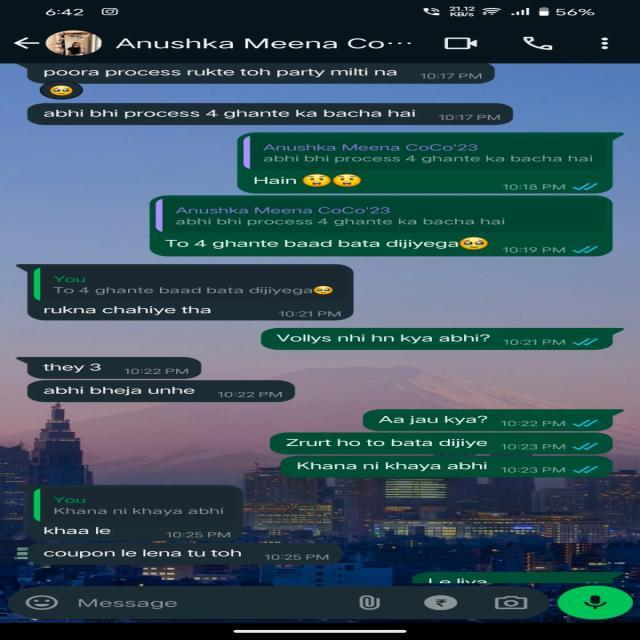scam: (29, 102, 512, 125), (24, 64, 497, 86), (33, 543, 340, 564), (23, 380, 294, 402), (27, 304, 355, 320), (17, 356, 202, 380), (32, 523, 240, 541)
